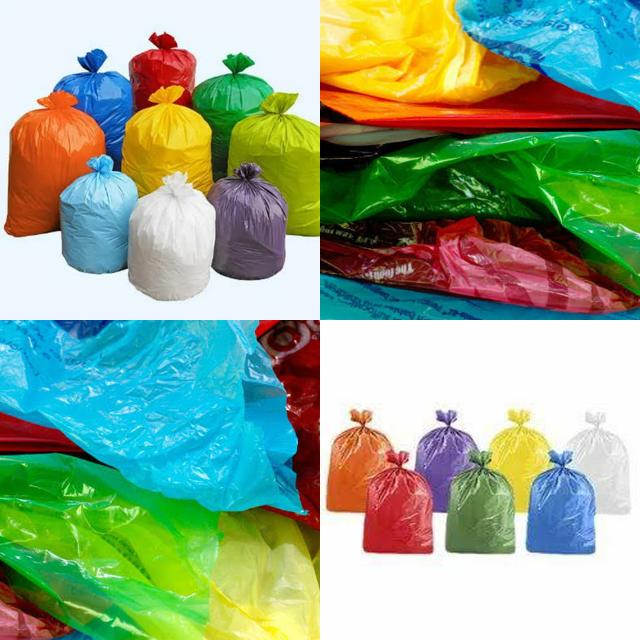Single-layer Plastic: (0, 455, 319, 640), (0, 320, 302, 513), (321, 130, 640, 294), (321, 218, 640, 314), (320, 0, 538, 103), (456, 0, 640, 111), (4, 91, 106, 236), (228, 92, 320, 236), (128, 171, 215, 300), (192, 52, 272, 180), (121, 85, 212, 196), (54, 49, 132, 170), (208, 162, 288, 279), (60, 155, 138, 274), (526, 450, 596, 553), (446, 450, 515, 553), (364, 450, 432, 553), (326, 409, 391, 512), (415, 410, 478, 512), (568, 412, 630, 514), (489, 409, 550, 512), (129, 32, 196, 111)
